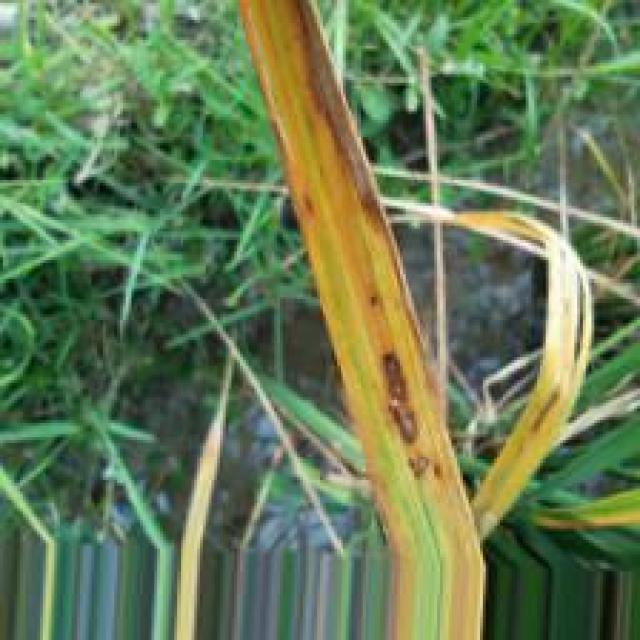Bacterial_Leaf_Blight: (290, 1, 485, 566), (239, 1, 415, 555), (306, 108, 396, 350), (379, 349, 422, 448), (304, 194, 320, 220)
